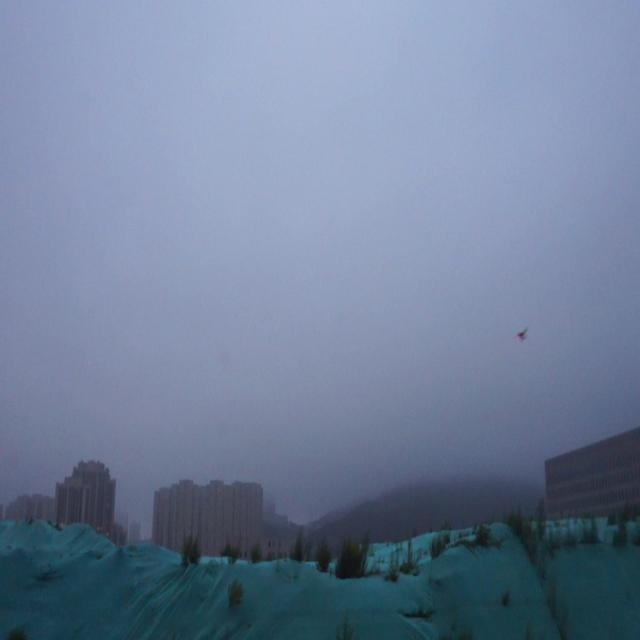drone: (515, 325, 530, 346)
